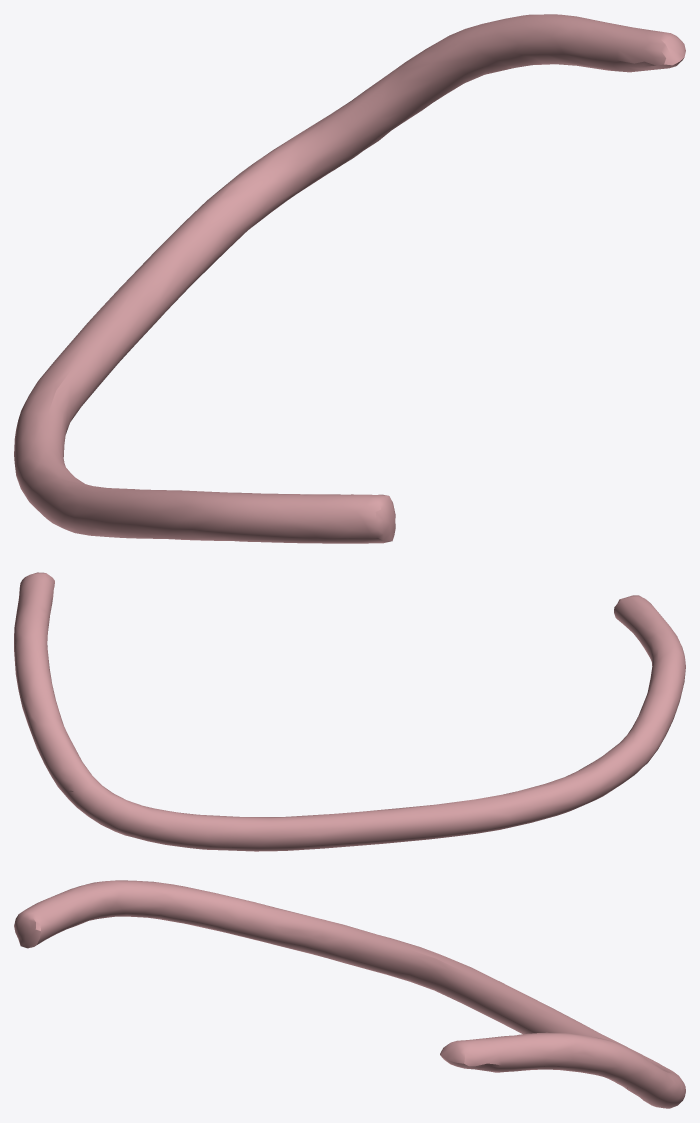
File: fma75135-r_mm3227m.glb
The picture shows the model from 3 angles, top to bottom: view 1: azimuth 30°, elevation 25°; view 2: azimuth 150°, elevation 25°; view 3: azimuth 270°, elevation 25°; orthographic projection. The views are drawn at different scales.
Visible parts, largest first — view 1: FMA75135-R_MM3227M; view 2: FMA75135-R_MM3227M; view 3: FMA75135-R_MM3227M.
Part boxes in pixels (x1,y1,x2,y2): FMA75135-R_MM3227M: [14, 14, 685, 543]; FMA75135-R_MM3227M: [14, 572, 685, 851]; FMA75135-R_MM3227M: [14, 880, 685, 1108].
Bounding box in the file's own units: 0.0498 × 0.0146 × 0.0509.
